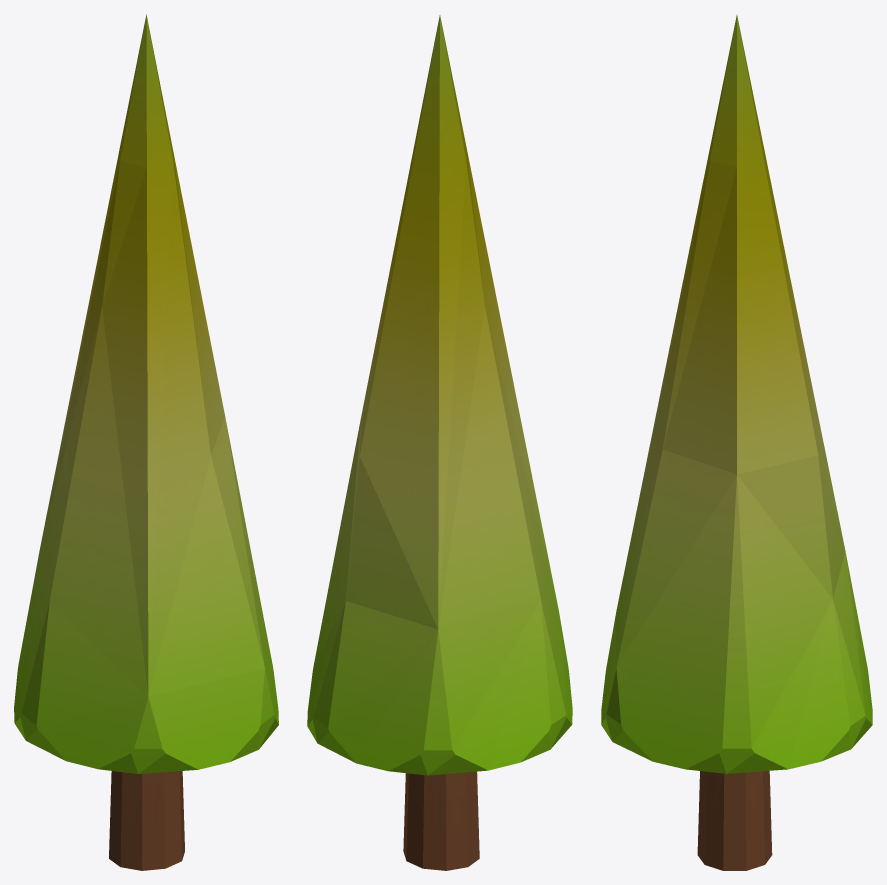
The model's file is Forest_Plant_005.FBX.
3 renders of one model, left to right at view 1: azimuth 30°, elevation 25°; view 2: azimuth 150°, elevation 25°; view 3: azimuth 270°, elevation 25°, orthographic.
Visible parts, largest first — view 1: Forest_Plant_005; view 2: Forest_Plant_005; view 3: Forest_Plant_005.
Part boxes in pixels (x1,y1,x2,y2): Forest_Plant_005: (14, 14, 278, 870); Forest_Plant_005: (307, 15, 572, 870); Forest_Plant_005: (601, 15, 872, 870).
Bounding box in the file's own units: 311 × 1054 × 308.
1 material, 1 textured.
